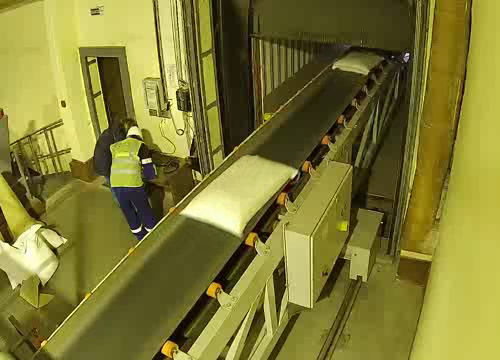bag: (168, 145, 307, 246), (325, 47, 386, 78)
